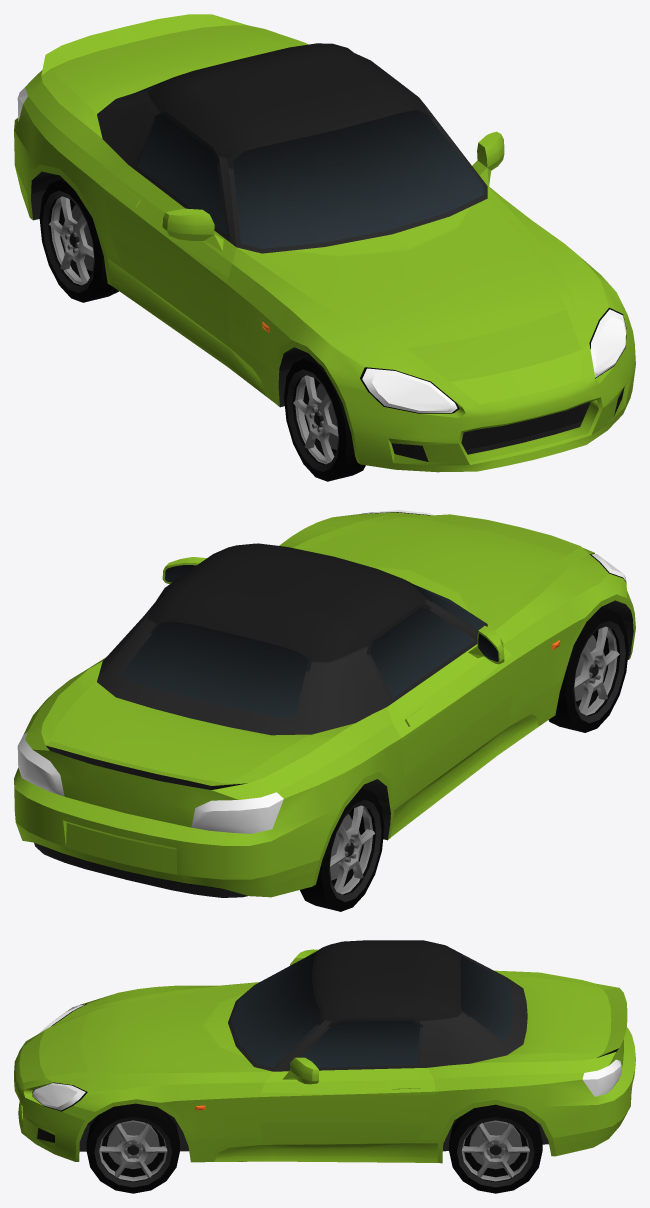
3 views of the same model, one above another, from view 1: azimuth 30°, elevation 25°; view 2: azimuth 150°, elevation 25°; view 3: azimuth 270°, elevation 25° (orthographic). The views are drawn at different scales.
Parts seen in each view (by area): view 1: Body.006, FR.006, RR.006; view 2: Body.006, FR.006, RR.006; view 3: Body.006, FL.006, RL.006.
Boxes of the visible parts, bbox=[...] form: Body.006: bbox=[14, 14, 635, 472]; FR.006: bbox=[284, 356, 365, 481]; RR.006: bbox=[39, 179, 118, 302]; Body.006: bbox=[14, 510, 635, 897]; FR.006: bbox=[548, 608, 628, 732]; RR.006: bbox=[300, 788, 384, 911]; Body.006: bbox=[14, 940, 635, 1163]; FL.006: bbox=[86, 1103, 179, 1193]; RL.006: bbox=[449, 1104, 542, 1193].
Size of the model in its own units: 1.89 by 1.27 by 4.07.
Materials: 2 (2 with a texture image).
